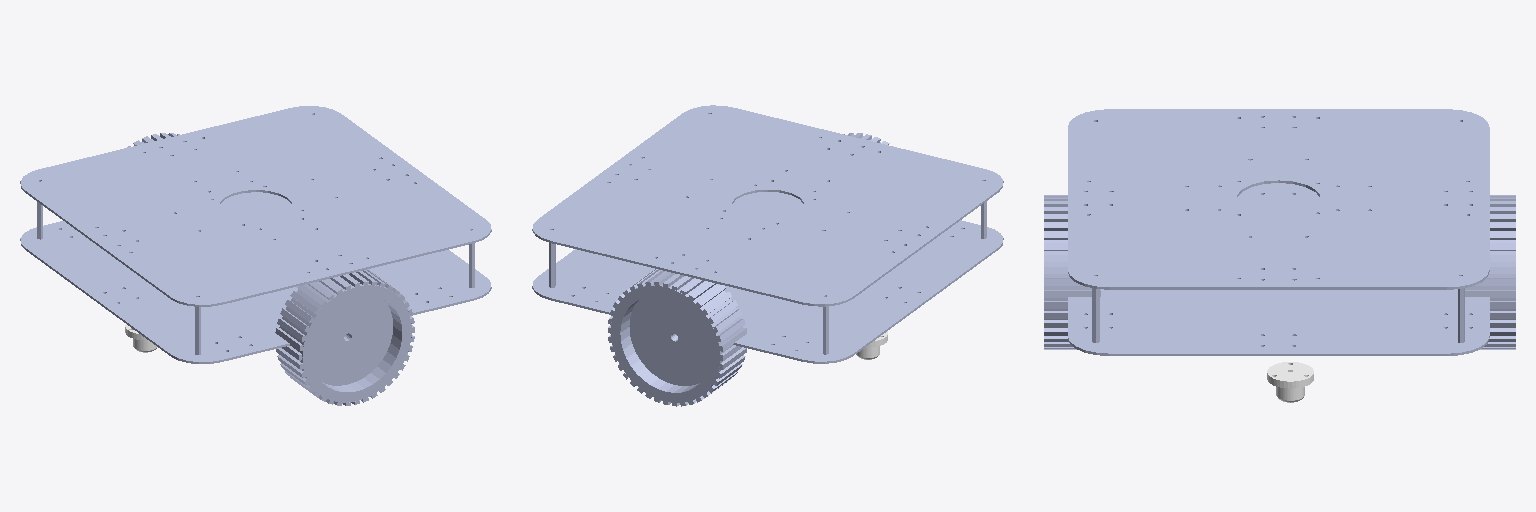
The robot description file, URDF, robot "dyno_minion":
<?xml version="1.0" encoding="utf-8"?>
<!-- This URDF was automatically created by SolidWorks to URDF Exporter! Originally created by [author] ([email redacted]) 
     Commit Version: 1.6.0-1-g15f4949  Build Version: 1.6.7594.29634
     For more information, please see http://wiki.ros.org/sw_urdf_exporter -->

<!-- This URDF was developed by robotoai_technologies for educational purpose -->     
<robot
  name="dyno_minion" xmlns:xacro="http://www.ros.org/wiki/xacro">
  
  <link name="base_footprint"/>
    
  <joint name="base_joint" type="fixed">
    <origin rpy="0 0 0" xyz="0 0 0.010"/>
    <parent link="base_footprint"/>
    <child link="base_link"/>
  </joint>
  
  <link
    name="base_link">
    <inertial>
      <origin
        xyz="-0.0044755 -0.0009549 0.039021"
        rpy="0 0 0" />
      <mass
        value="1.6789" />
      <inertia
        ixx="0.011607"
        ixy="-4.6471E-09"
        ixz="1.308E-06"
        iyy="0.011583"
        iyz="2.2524E-09"
        izz="0.023154" />
    </inertial>
    <visual>
      <origin
        xyz="0 -0.16 -0.02"
        rpy="0 0 0" />
      <geometry>
        <mesh
          filename="package://dyno_description/meshes/base_link.STL" scale="0.001 0.001 0.001"/>
      </geometry>
      <material
        name="">
        <color
          rgba="0.79216 0.81961 0.93333 1" />
      </material>
    </visual>
    <collision>
      <origin
        xyz="0 0 0"
        rpy="0 0 0" />
      <geometry>
        <box size="0.35 0.35 0.12"/>
      </geometry>
    </collision>
  </link>

  <gazebo reference="base_link">
    <material>Gazebo/White</material>
    <turnGravityOff>false</turnGravityOff>
  </gazebo>

  <!-- left_wheel -->

  <link
    name="left_wheel">
    <inertial>
      <origin
        xyz="-1.8613E-11 0.01917 -2.3879E-06"
        rpy="0 0 0" />
      <mass
        value="0.2" />
      <inertia
        ixx="0.0001708"
        ixy="-1.5897E-14"
        ixz="1.047E-13"
        iyy="0.00029882"
        iyz="-1.251E-08"
        izz="0.00017081" />
    </inertial>
    <visual>
      <origin
        xyz="0 0 0"
        rpy="0 0 0" />
      <geometry>
        <mesh
          filename="package://dyno_description/meshes/left_wheel.STL" />
      </geometry>
      <material
        name="">
        <color
          rgba="0.79216 0.81961 0.93333 1" />
      </material>
    </visual>
    <collision>
      <origin
        xyz="0 0 0"
        rpy="0 0 0" />
      <geometry>
        <mesh
          filename="package://dyno_description/meshes/left_wheel.STL" />
      </geometry>
    </collision>
  </link>
  <gazebo reference="left_wheel">
    <mu1>0.9</mu1>
    <mu2>0.9</mu2>
    <kp>10000000.0</kp>
    <kd>10.0</kd>
    <minDepth>0.001</minDepth>
    <maxVel>0.1</maxVel>
    <fdir1>1 0 0</fdir1>
    <material>Gazebo/FlatBlack</material>
  
    <turnGravityOff>false</turnGravityOff>
  </gazebo>


  <joint
    name="wheel_left_joint"
    type="continuous">
    <origin
      xyz="0 0.12 -0.024"
      rpy="0 0 0" />
    <parent
      link="base_link" />
    <child
      link="left_wheel" />
    <axis
      xyz="0 1 0" />
  </joint>

  <transmission name="left_wheel_joint_trans">
    <type>transmission_interface/SimpleTransmission</type>
    <joint name="wheel_left_joint"/>
    <actuator name="wheel_left_joint_motor">
      <hardwareInterface>EffortJointInterface</hardwareInterface>
      <mechanicalReduction>1</mechanicalReduction>
    </actuator>
  </transmission>
  


  <!-- right_wheel -->

  <link
    name="right_wheel">
    <inertial>
      <origin
        xyz="1.8613E-11 -0.034208 -2.3879E-06"
        rpy="0 0 0" />
      <mass
        value="0.2" />
      <inertia
        ixx="0.0001708"
        ixy="-1.5896E-14"
        ixz="-1.047E-13"
        iyy="0.00029882"
        iyz="1.251E-08"
        izz="0.00017081" />
    </inertial>
    <visual>
      <origin
        xyz="0 0 0"
        rpy="0 0 0" />
      <geometry>
        <mesh
          filename="package://dyno_description/meshes/right_wheel.STL" />
      </geometry>
      <material
        name="">
        <color
          rgba="0.79216 0.81961 0.93333 1" />
      </material>
    </visual>
    <collision>
      <origin
        xyz="0 0 0"
        rpy="0 0 0" />
      <geometry>
        <mesh
          filename="package://dyno_description/meshes/right_wheel.STL" />
      </geometry>
    </collision>
  </link>
  <gazebo reference="right_wheel">
    <mu1>0.9</mu1>
    <mu2>0.9</mu2>
    <kp>10000000.0</kp>
    <kd>10.0</kd>
    <minDepth>0.001</minDepth>
    <maxVel>0.1</maxVel>
    <fdir1>1 0 0</fdir1>
    <material>Gazebo/FlatBlack</material>
  
    <turnGravityOff>false</turnGravityOff>
  </gazebo>
  <joint
    name="wheel_right_joint"
    type="continuous">
    <origin
      xyz="0 -0.12 -0.024"
      rpy="0 0 0" />
    <parent
      link="base_link" />
    <child
      link="right_wheel" />
    <axis
      xyz="0 1 0" />
  </joint>
    
  <transmission name="right_wheel_joint_trans">
    <type>transmission_interface/SimpleTransmission</type>
    <joint name="wheel_right_joint"/>
    <actuator name="wheel_right_joint_motor">
      <hardwareInterface>EffortJointInterface</hardwareInterface>
      <mechanicalReduction>1</mechanicalReduction>
    </actuator>
  </transmission>  
  



  <link
    name="castor_front">
    <inertial>
      <origin
        xyz="1.05257219401578E-06 -2.17254769955835E-17 -0.0027368088995401"
        rpy="0 0 0" />
      <mass
        value="0.0752569149525249" />
      <inertia
        ixx="6.41749697357868E-06"
        ixy="-1.03764641093858E-23"
        ixz="-4.3462843741187E-10"
        iyy="6.41955351411625E-06"
        iyz="-1.60276576847454E-22"
        izz="6.8983940697052E-06" />
    </inertial>
    <visual>
      <origin
        xyz="0 0 0"
        rpy="0 0 0" />
      <geometry>
        <mesh
          filename="package://dyno_description/meshes/castor.STL" />
      </geometry>
      <material
        name="">
        <color
          rgba="1 1 1 1" />
      </material>
    </visual>
    <collision>
      <origin
        xyz="0 0 0"
        rpy="0 0 0" />
      <geometry>
        <mesh
          filename="package://dyno_description/meshes/castor.STL" />
      </geometry>
    </collision>
  </link>

  <joint
    name="castor_front_joint"
    type="fixed">
    <origin
      xyz="0.10 0 -0.0605"
      rpy="0 0 0" />
    <parent
      link="base_link" />
    <child
      link="castor_front" />
    <axis
      xyz="0 0 0" />
  </joint>
  <gazebo reference="castor_front">
    <mu1>0.1</mu1>
    <mu2>0.1</mu2>
    <kp>10000000.0</kp>
    <kd>100.0</kd>
    <minDepth>0.001</minDepth>
    <maxVel>1.0</maxVel>
    <material>Gazebo/FlatBlack</material>
  
    <turnGravityOff>false</turnGravityOff>
  </gazebo>

  <link
    name="castor_back">
    <inertial>
      <origin
        xyz="1.05257219401578E-06 -2.17254769955835E-17 -0.0027368088995401"
        rpy="0 0 0" />
      <mass
        value="0.0752569149525249" />
      <inertia
        ixx="6.41749697357868E-06"
        ixy="-1.03764641093858E-23"
        ixz="-4.3462843741187E-10"
        iyy="6.41955351411625E-06"
        iyz="-1.60276576847454E-22"
        izz="6.8983940697052E-06" />
    </inertial>
    <visual>
      <origin
        xyz="0 0 0"
        rpy="0 0 0" />
      <geometry>
        <mesh
          filename="package://dyno_description/meshes/castor.STL" />
      </geometry>
      <material
        name="">
        <color
          rgba="1 1 1 1" />
      </material>
    </visual>
    <collision>
      <origin
        xyz="0 0 0"
        rpy="0 0 0" />
      <geometry>
        <mesh
          filename="package://dyno_description/meshes/castor.STL" />
      </geometry>
    </collision>
  </link>

  <joint
    name="castor_back_joint"
    type="fixed">
    <origin
      xyz="-0.10 0 -0.0605"
      rpy="0 0 0" />
    <parent
      link="base_link" />
    <child
      link="castor_back" />
    <axis
      xyz="0 0 0" />
  </joint>
  <gazebo reference="castor_back">
    <mu1>0.01</mu1>
    <mu2>0.01</mu2>
    <kp>10000000.0</kp>
    <kd>100.0</kd>
    <minDepth>0.001</minDepth>
    <maxVel>1.0</maxVel>
    <material>Gazebo/FlatBlack</material>
  
    <turnGravityOff>false</turnGravityOff>
  </gazebo>


  <link name="imu_link"/>

  <joint 
    name="imu_joint" type="fixed">
    <parent link="base_link"/>
    <child link="imu_link"/>
    <origin xyz="0.0 0 0.068" rpy="0 0 0"/>
  </joint>

  <gazebo reference="imu_link">
    <sensor type="imu" name="imu">
      <always_on>true</always_on>
    </sensor>
    <material>Gazebo/Grey</material>
  </gazebo>

  <gazebo>
    <plugin name="imu_plugin" filename="libgazebo_ros_imu.so">
      <alwaysOn>true</alwaysOn>
      <bodyName>imu_link</bodyName>
      <frameName>imu_link</frameName>
      <topicName>imu</topicName>
      <serviceName>imu_service</serviceName>
      <gaussianNoise>0.0</gaussianNoise>
      <updateRate>0</updateRate>
      <imu>
        <noise>
          <type>gaussian</type>
          <rate>
            <mean>0.0</mean>
            <stddev>2e-4</stddev>
            <bias_mean>0.0000075</bias_mean>
            <bias_stddev>0.0000008</bias_stddev>
          </rate>
          <accel>
            <mean>0.0</mean>
            <stddev>1.7e-2</stddev>
            <bias_mean>0.1</bias_mean>
            <bias_stddev>0.001</bias_stddev>
          </accel>
        </noise>
      </imu>
    </plugin>
  </gazebo>



  <link
    name="lidar">
    <inertial>
      <origin
        xyz="0.000532885262963846 0.0120604067592621 -0.00386496172207688"
        rpy="0 0 0" />
      <mass
        value="0.0730824366775064" />
      <inertia
        ixx="2.41258942857417E-05"
        ixy="1.04166482785358E-07"
        ixz="-9.60328356398317E-09"
        iyy="1.95797067949596E-05"
        iyz="-4.28386494719877E-07"
        izz="4.14181695186997E-05" />
    </inertial>
    <visual>
      <origin
        xyz="0 0 -0.03"
        rpy="0 0 0" />
      <geometry>
        <mesh
          filename="package://dyno_description/meshes/lidar.STL" />
      </geometry>
      <material
        name="">
        <color
          rgba="0.752941176470588 0.752941176470588 0.752941176470588 1" />
      </material>
    </visual>
    <collision>
      <origin
        xyz="0 0 0"
        rpy="0 0 0" />
      <geometry>
        <cylinder length="0.0315" radius="0.055"/>
      </geometry>
    </collision>
  </link>

  <joint
    name="lidar_joint"
    type="fixed">
    <origin
      xyz="0 0 0.0806"
      rpy="0 0 0" />
    <parent
      link="base_link" />
    <child
      link="lidar" />
    <axis
      xyz="0 0 0" />
  </joint>

  <gazebo reference="lidar">
    <material>Gazebo/Blue</material>
    <turnGravityOff>false</turnGravityOff>
    <sensor type="ray" name="head_hokuyo_sensor">
      <pose>0 0 0 0 0 0</pose>
      <visualize>false</visualize>
      <update_rate>5</update_rate>
      <ray>
        <scan>
          <horizontal>
            <samples>360</samples>
            <resolution>1</resolution>
            <min_angle>0</min_angle>
            <max_angle>6.28319</max_angle>
          </horizontal>
        </scan>
        <range>
          <min>0.120</min>
          <max>4</max>
          <resolution>0.001</resolution>
        </range>
        <noise>
          <type>gaussian</type>
          <mean>0.0</mean>
          <stddev>0.01</stddev>
        </noise>
      </ray>
      <plugin name="gazebo_ros_head_hokuyo_controller" filename="libgazebo_ros_laser.so">
        <topicName>/scan</topicName>
        <frameName>lidar</frameName>
      </plugin>
    </sensor>
  </gazebo>

 
  
  <!-- Differential drive controller  -->
  <gazebo>
    <plugin filename="libgazebo_ros_diff_drive.so" name="dyno_differential_drive_controller">
      <commandTopic>cmd_vel</commandTopic>
      <odometryTopic>odom</odometryTopic>
      <odometryFrame>odom</odometryFrame>
      <odometrySource>world</odometrySource>
      <publishOdomTF>true</publishOdomTF>
      <robotBaseFrame>base_footprint</robotBaseFrame>
      <publishWheelTF>false</publishWheelTF>
      <publishTf>true</publishTf>
      <publishWheelJointState>true</publishWheelJointState>
      <legacyMode>false</legacyMode>
      <updateRate>10</updateRate>
      <leftJoint>wheel_left_joint</leftJoint>
      <rightJoint>wheel_right_joint</rightJoint>
      <wheelSeparation>0.3</wheelSeparation>
      <wheelDiameter>0.11</wheelDiameter>
      <wheelAcceleration>0.5</wheelAcceleration>
      <wheelTorque>2</wheelTorque>
      <rosDebugLevel>na</rosDebugLevel>
    </plugin>
  </gazebo>

 

</robot>

--- What the picture shows (computed from the rendered views, not written in the file) ---
The picture shows the robot from 3 angles, left to right: view 1: azimuth 30°, elevation 25°; view 2: azimuth 150°, elevation 25°; view 3: azimuth 270°, elevation 25°; orthographic projection.
Model dyno_minion with 8 links and 7 joints (2 continuous, 5 fixed), rooted at base_footprint, posed all joints at 0.
Links seen in each view (by area): view 1: base_link, right_wheel; view 2: base_link, left_wheel; view 3: base_link, left_wheel, right_wheel, castor_front.
Boxes of the visible links, left/top/right/bottom form: base_link: left=20, top=106, right=491, bottom=363; right_wheel: left=275, top=269, right=414, bottom=405; base_link: left=532, top=105, right=1003, bottom=363; left_wheel: left=608, top=269, right=746, bottom=406; base_link: left=1068, top=109, right=1489, bottom=355; left_wheel: left=1465, top=195, right=1515, bottom=349; right_wheel: left=1044, top=195, right=1100, bottom=349; castor_front: left=1267, top=362, right=1313, bottom=402.
Bounding box of the posed robot: 0.3 × 0.335 × 0.1135 m (x, y, z).
Meshes: 5 distinct files referenced, 5 mesh visuals loaded (4 binary STL); not drawn: 1 (reference not matched to a file when rendering).
